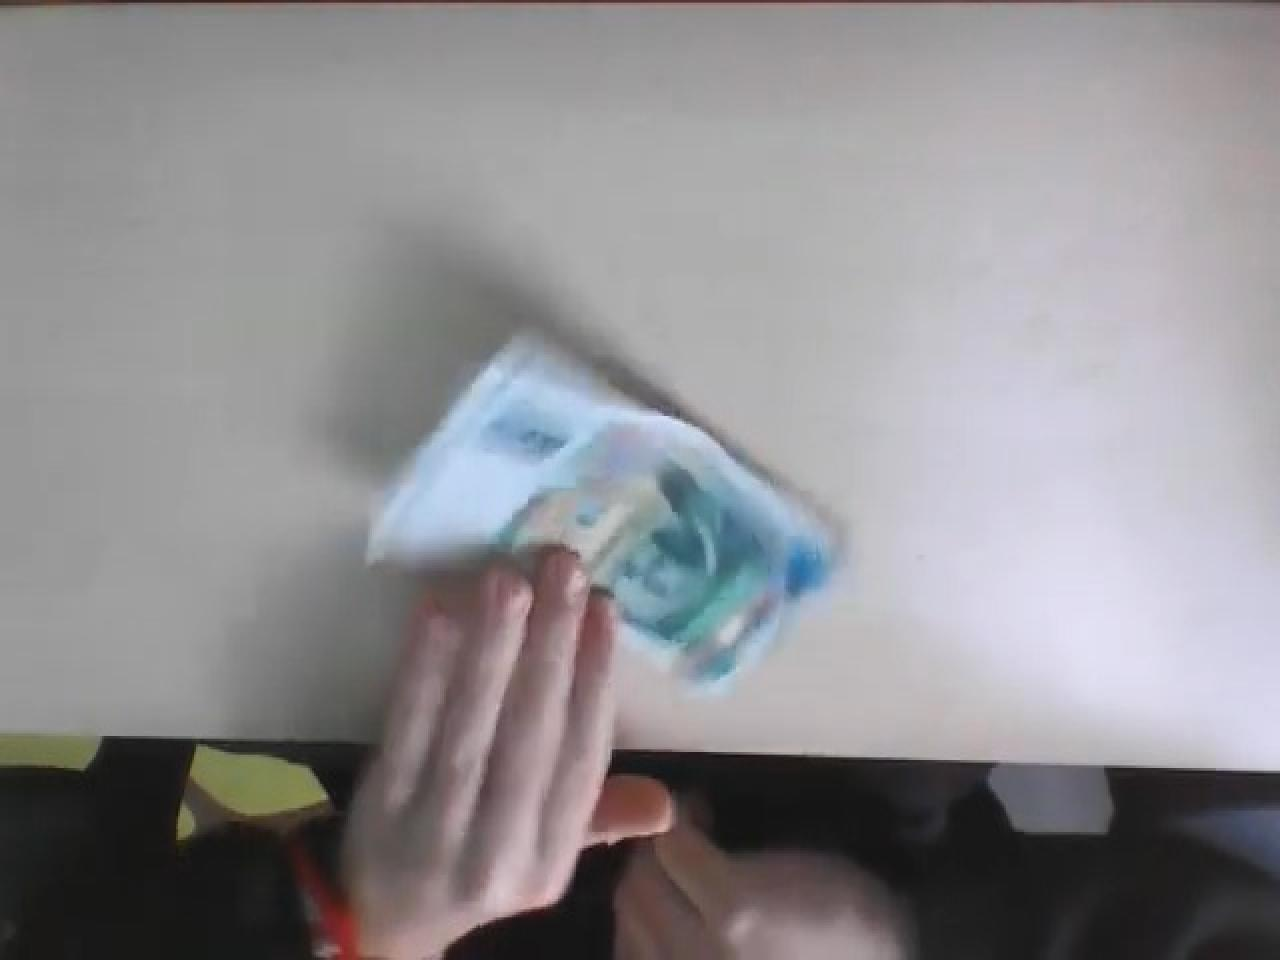100leva: (364, 323, 846, 691)
